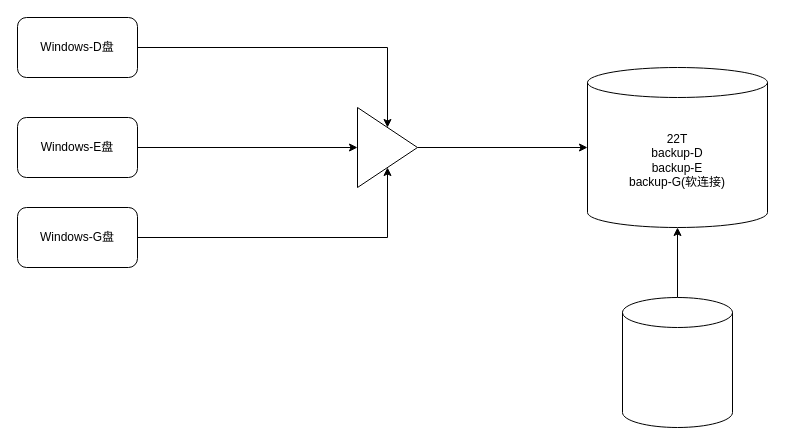
The diagram is 785 pixels wide and 445 high, and some of its shapes have lost their labels. The box of each missing label's shape, as (x1, y1, x2, y2) in pixels:
/home: (356, 106, 418, 188)
6T backup-G(软连接): (622, 296, 732, 428)
